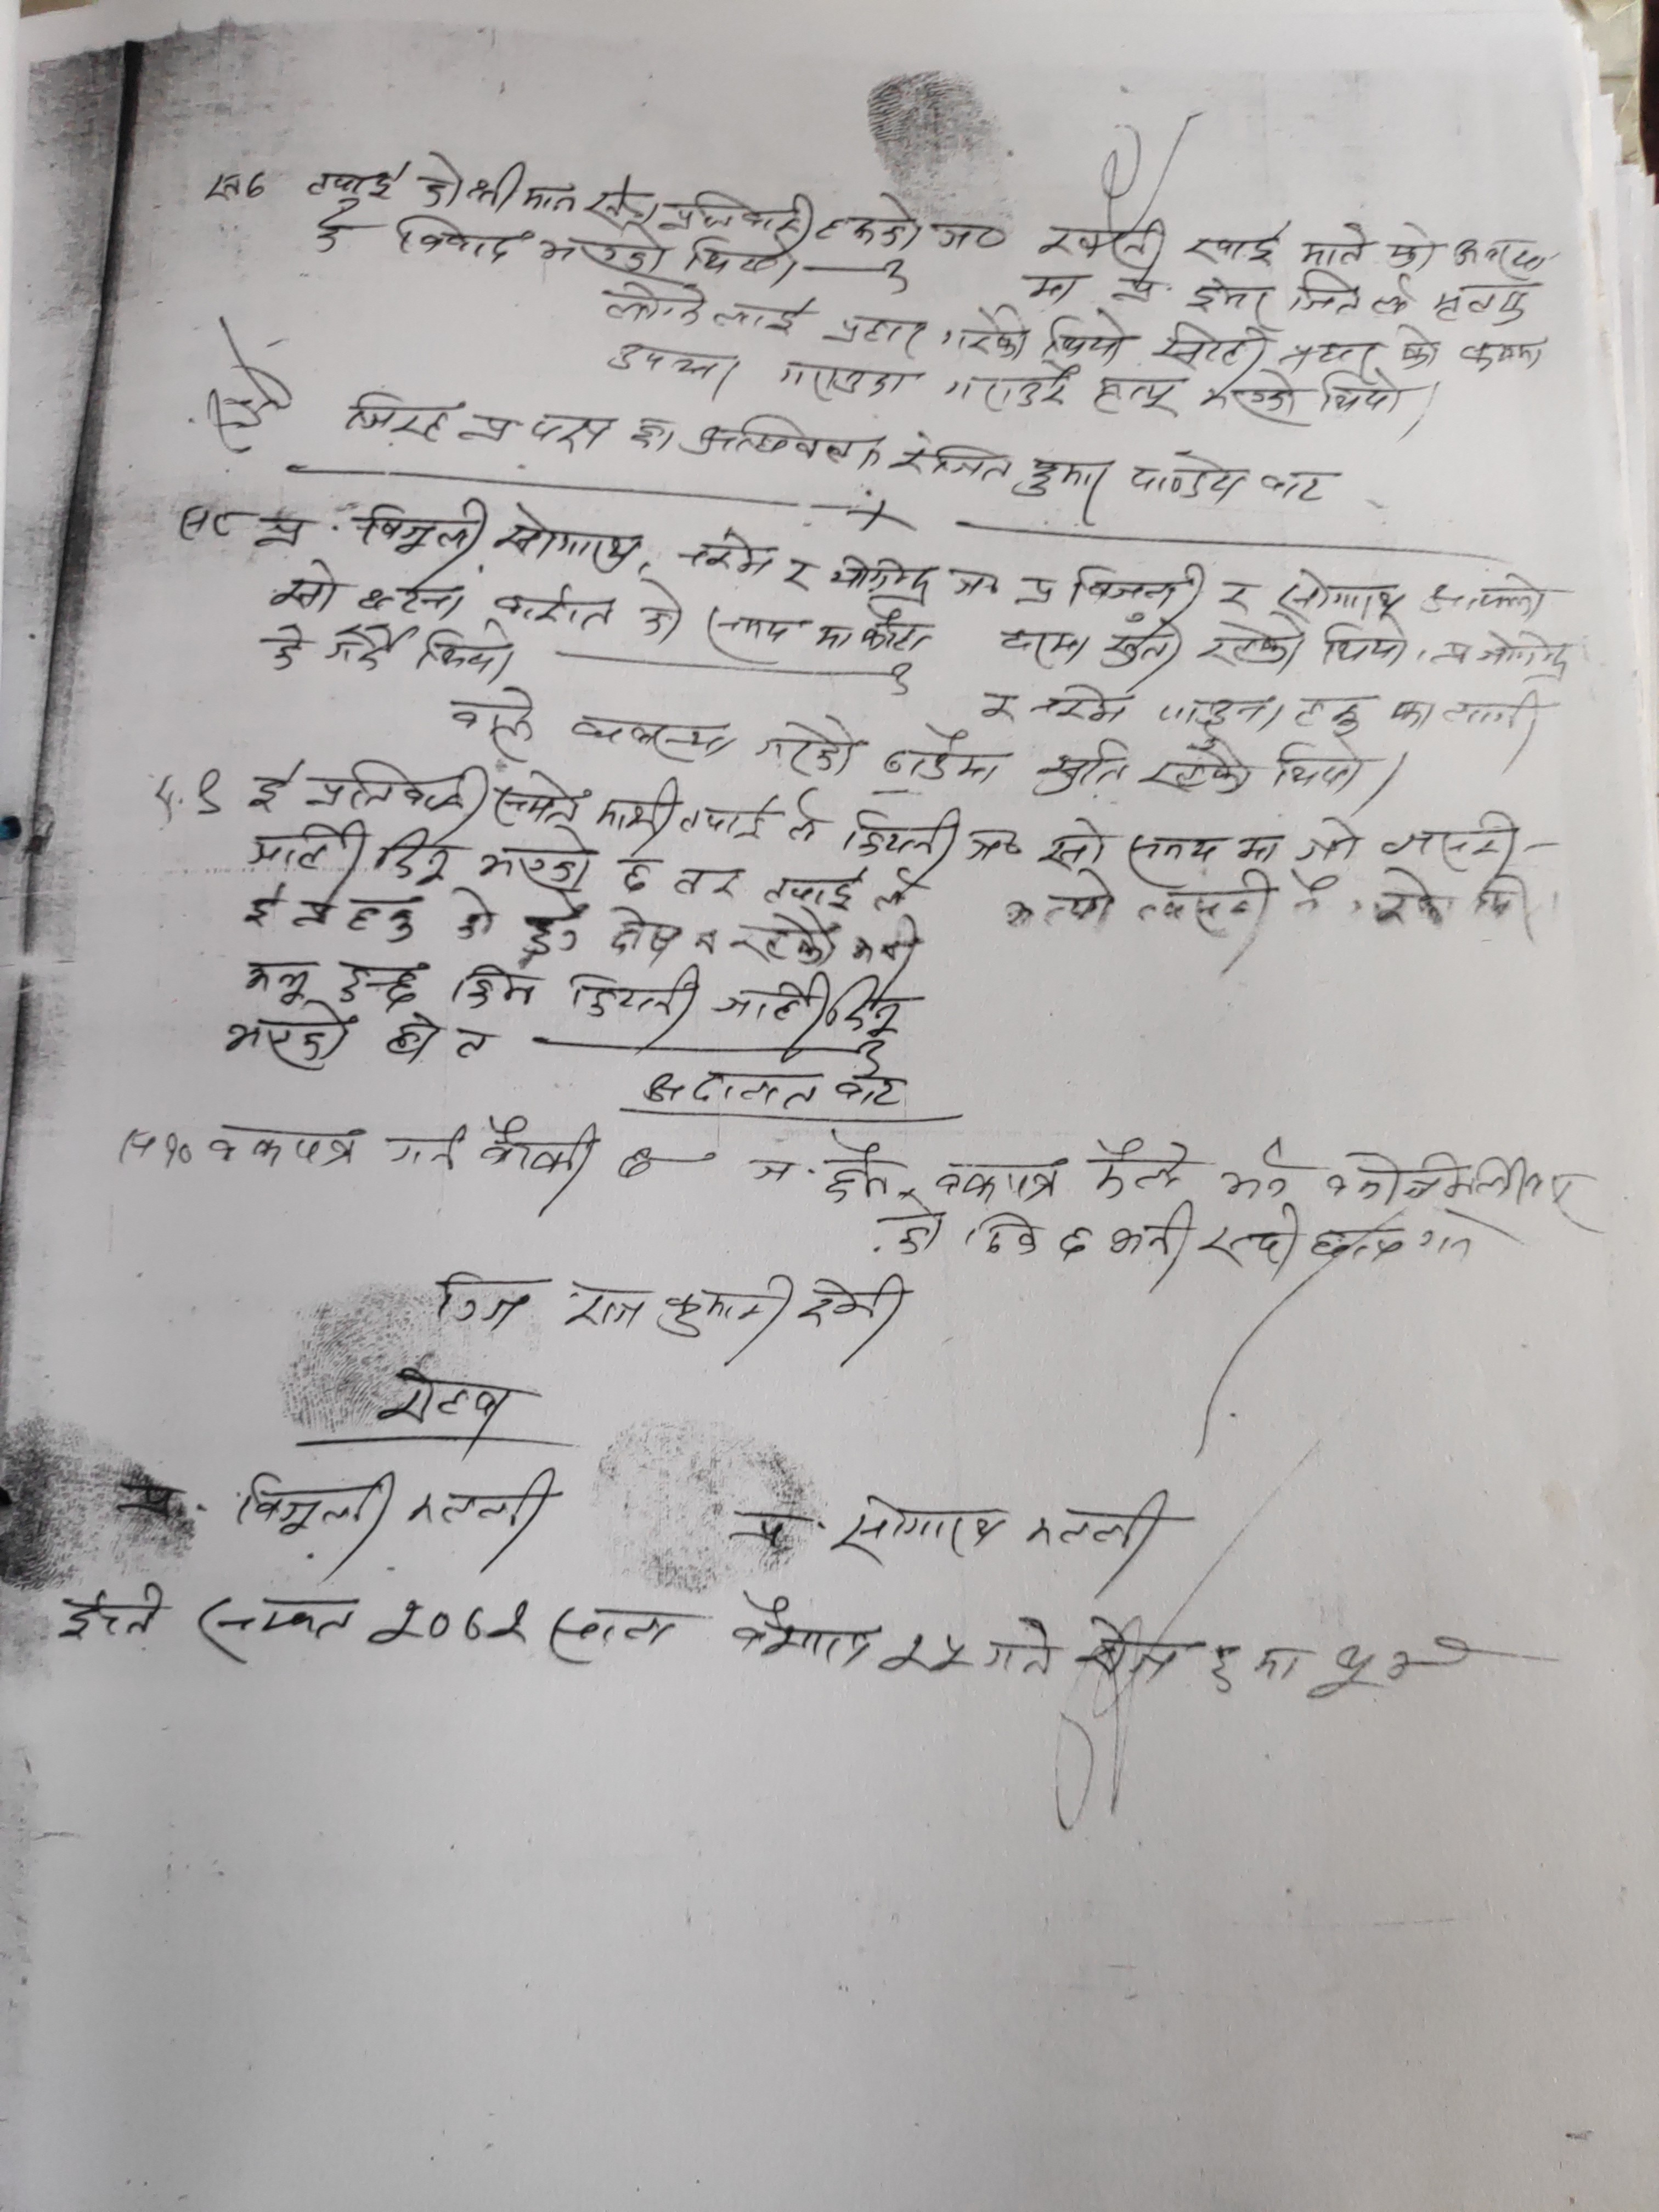text: (1194, 1207, 1478, 1277), (1324, 1146, 1591, 1219), (1021, 1484, 1173, 1585), (824, 1486, 1006, 1568), (190, 1588, 361, 1669), (401, 1463, 563, 1545), (235, 1465, 401, 1545), (721, 1585, 877, 1670), (681, 411, 880, 475), (601, 279, 809, 340), (308, 752, 491, 820), (493, 498, 645, 577), (544, 1588, 678, 1676), (373, 1364, 526, 1439), (362, 1590, 538, 1655), (655, 1270, 795, 1348), (483, 1108, 599, 1198), (220, 1000, 350, 1076), (568, 709, 739, 766), (565, 963, 708, 1031), (1072, 1606, 1190, 1688), (634, 1068, 824, 1118), (202, 1118, 368, 1176), (666, 181, 819, 240), (1439, 624, 1582, 686), (354, 491, 488, 557), (838, 803, 962, 874), (711, 968, 835, 1040), (681, 787, 828, 846), (603, 338, 739, 401), (1072, 557, 1208, 620), (1380, 808, 1520, 869), (471, 824, 592, 892), (1126, 827, 1286, 878), (467, 406, 620, 458), (441, 681, 538, 763), (796, 1270, 910, 1339), (1274, 563, 1408, 620), (762, 864, 925, 911), (1195, 611, 1309, 679), (943, 362, 1080, 418), (1417, 570, 1563, 622), (54, 1580, 169, 1646), (885, 430, 1012, 489), (1140, 740, 1256, 805), (1094, 1136, 1199, 1207), (430, 1263, 535, 1334), (1441, 685, 1553, 751), (394, 212, 528, 266), (247, 820, 369, 880), (882, 730, 1006, 787), (538, 228, 669, 282), (1030, 735, 1134, 801), (756, 718, 859, 784), (1033, 218, 1173, 266), (775, 355, 910, 406), (1147, 319, 1276, 371), (490, 580, 617, 632), (819, 190, 924, 253), (411, 622, 518, 683), (1126, 449, 1249, 502), (1107, 1198, 1195, 1270), (678, 233, 796, 286), (983, 1608, 1060, 1688), (474, 164, 580, 221), (1197, 371, 1300, 430), (934, 301, 1028, 366), (934, 1158, 1072, 1202), (342, 387, 450, 441), (1018, 448, 1122, 503), (598, 773, 683, 841), (490, 770, 584, 831), (369, 826, 451, 895), (1272, 737, 1364, 798), (676, 526, 779, 580), (453, 963, 551, 1019), (1155, 691, 1284, 733), (1037, 310, 1134, 364), (877, 1622, 974, 1676), (1319, 615, 1413, 671), (558, 1277, 641, 1339), (823, 1132, 890, 1209), (1032, 679, 1134, 730), (824, 312, 931, 361), (385, 1122, 474, 1179), (1091, 368, 1188, 420), (831, 549, 936, 597), (1033, 810, 1110, 876), (1103, 620, 1183, 683), (356, 575, 462, 622), (697, 601, 789, 655), (331, 954, 423, 1008), (1182, 272, 1283, 320), (321, 620, 410, 674), (1183, 225, 1284, 272), (1222, 1139, 1295, 1204), (1429, 282, 1527, 329), (1319, 369, 1413, 416), (1290, 810, 1363, 869), (606, 906, 685, 960), (268, 556, 342, 613), (671, 855, 751, 907), (962, 1209, 1044, 1259), (239, 951, 308, 1010), (521, 892, 584, 956), (1002, 624, 1087, 671), (857, 608, 934, 660), (835, 1069, 913, 1120), (582, 172, 660, 221), (303, 162, 401, 200), (1455, 334, 1547, 374), (1290, 270, 1361, 320), (1283, 336, 1384, 371), (894, 1197, 951, 1258), (1298, 221, 1368, 270), (1256, 463, 1333, 505), (967, 820, 1025, 874), (732, 1501, 793, 1552), (418, 146, 467, 209), (640, 578, 685, 643), (263, 618, 310, 678), (1387, 219, 1438, 272), (1206, 1629, 1244, 1696), (612, 1141, 664, 1186), (1107, 268, 1161, 312), (1213, 575, 1256, 617), (1054, 1221, 1094, 1264), (619, 855, 657, 900), (784, 552, 817, 599), (627, 416, 666, 451), (814, 620, 852, 651)
